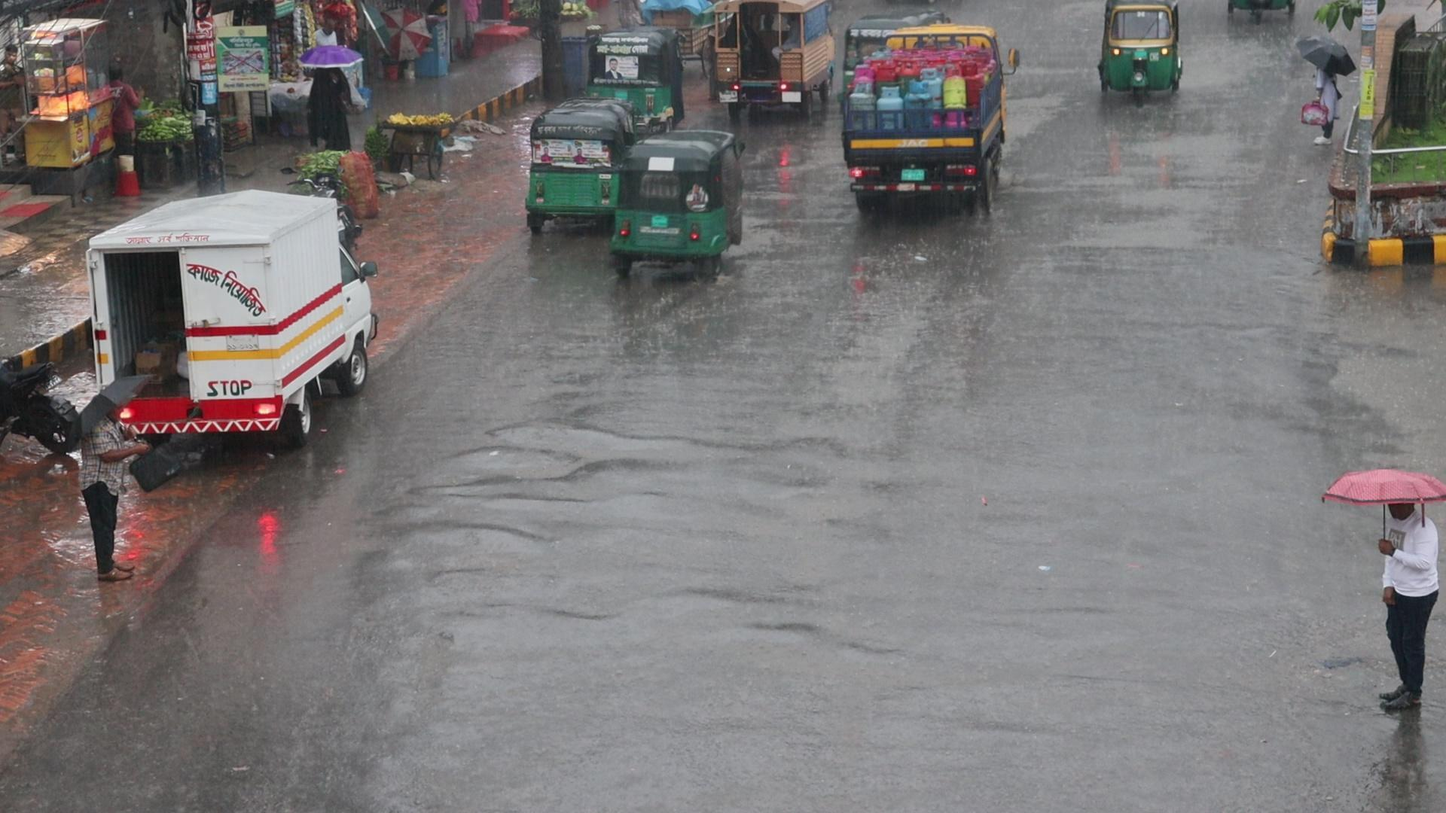Truck: (842, 17, 1016, 216)
